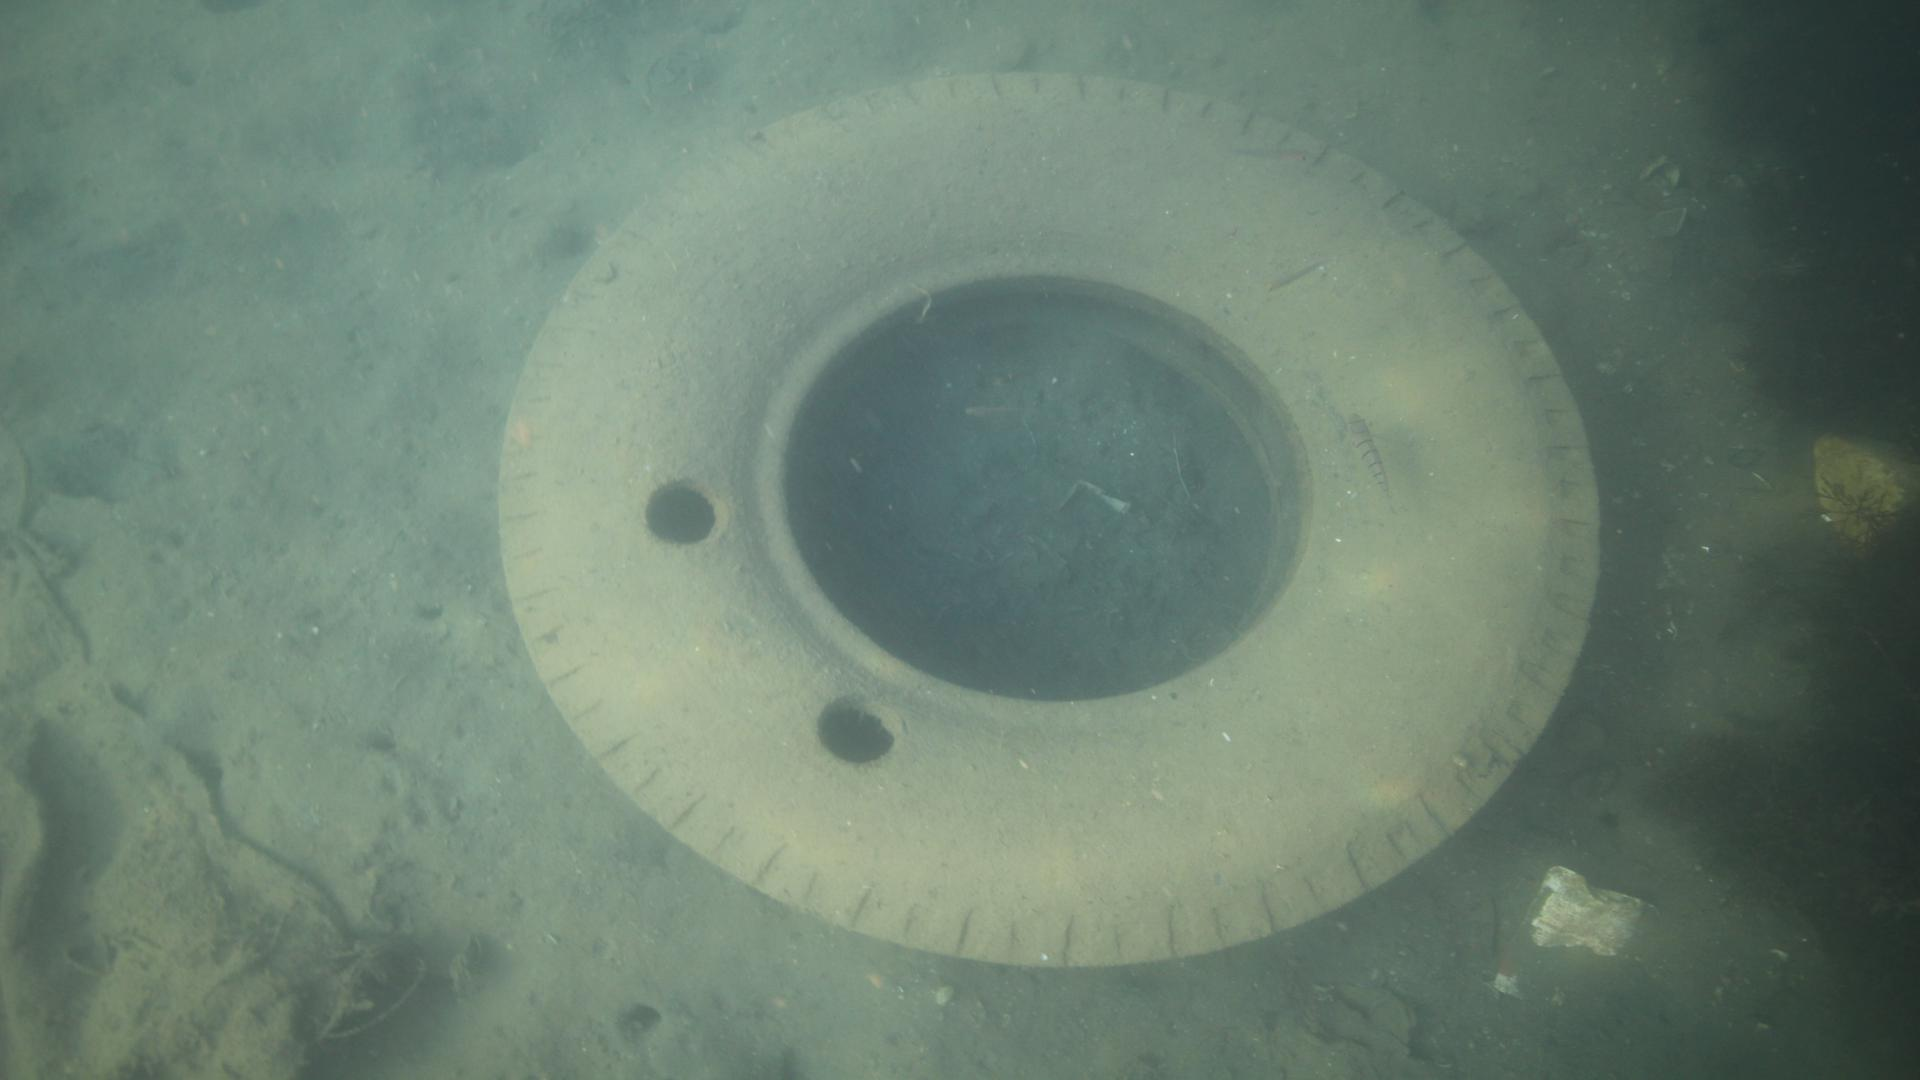tire: (491, 69, 1601, 972)
